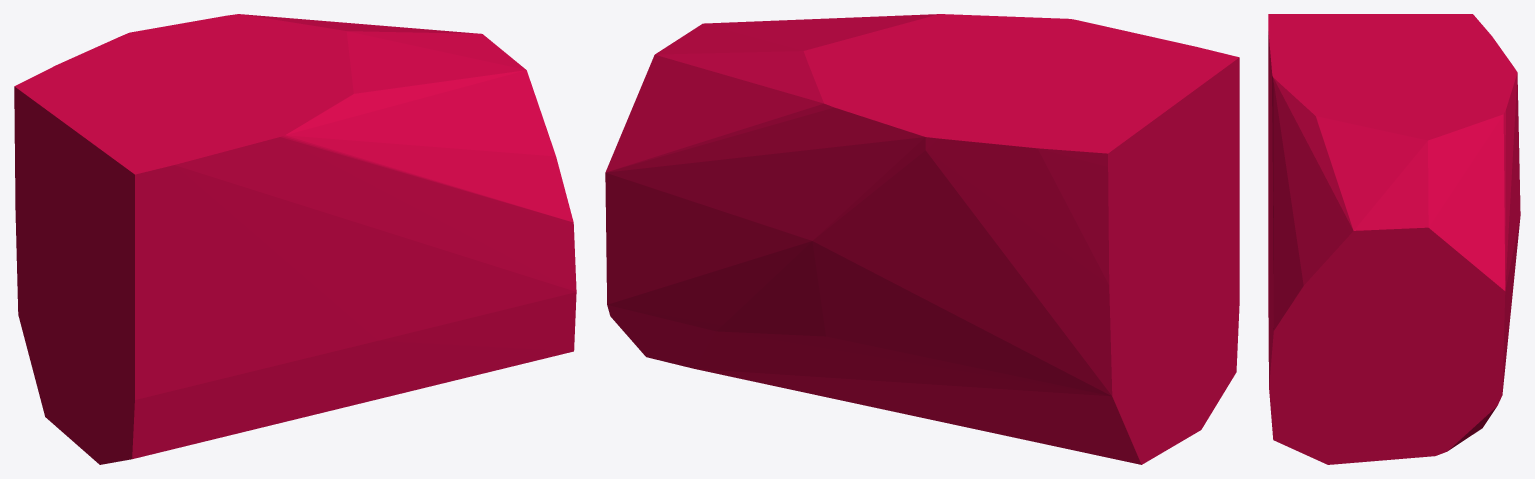
3 views of the same model, side by side, from view 1: azimuth 30°, elevation 25°; view 2: azimuth 150°, elevation 25°; view 3: azimuth 270°, elevation 25° (orthographic). The views are drawn at different scales.
Bounding box in the file's own units: 3.82 × 2.61 × 2.23.
